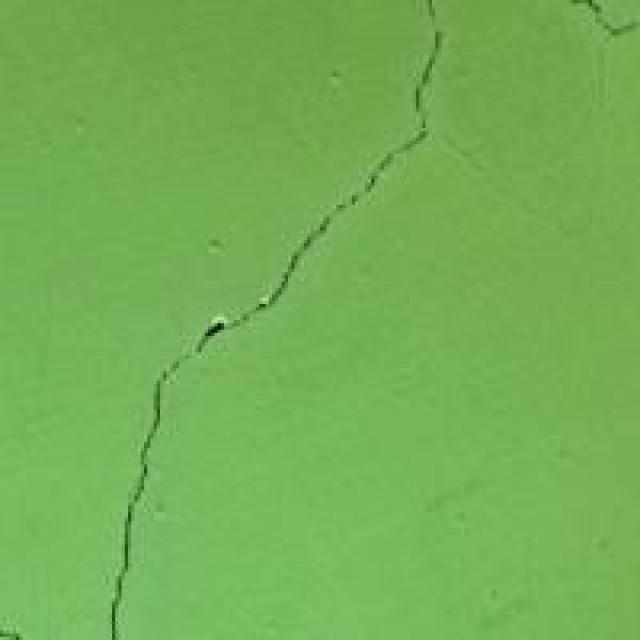crack: (94, 0, 458, 640)
